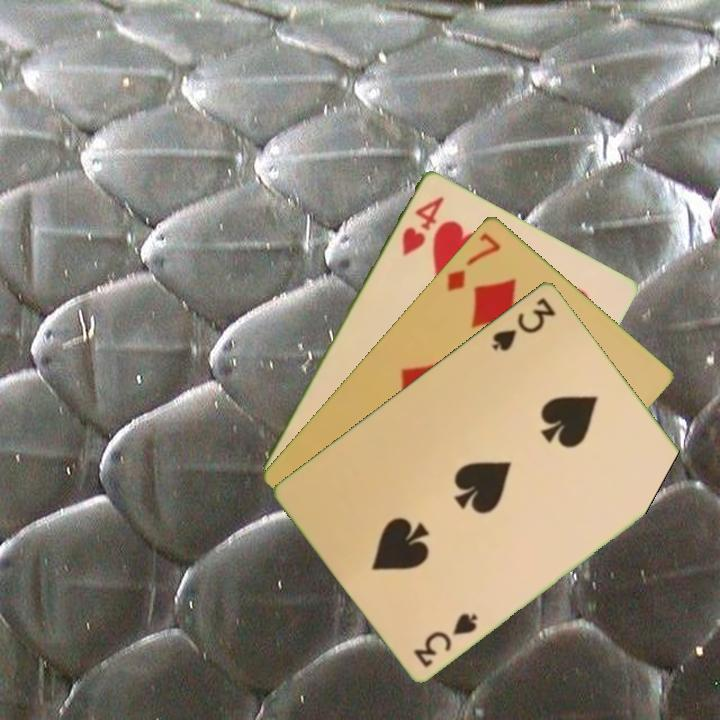3s: (410, 608, 481, 670), (488, 293, 559, 354)
4h: (398, 192, 447, 258)
7d: (443, 228, 504, 294)
